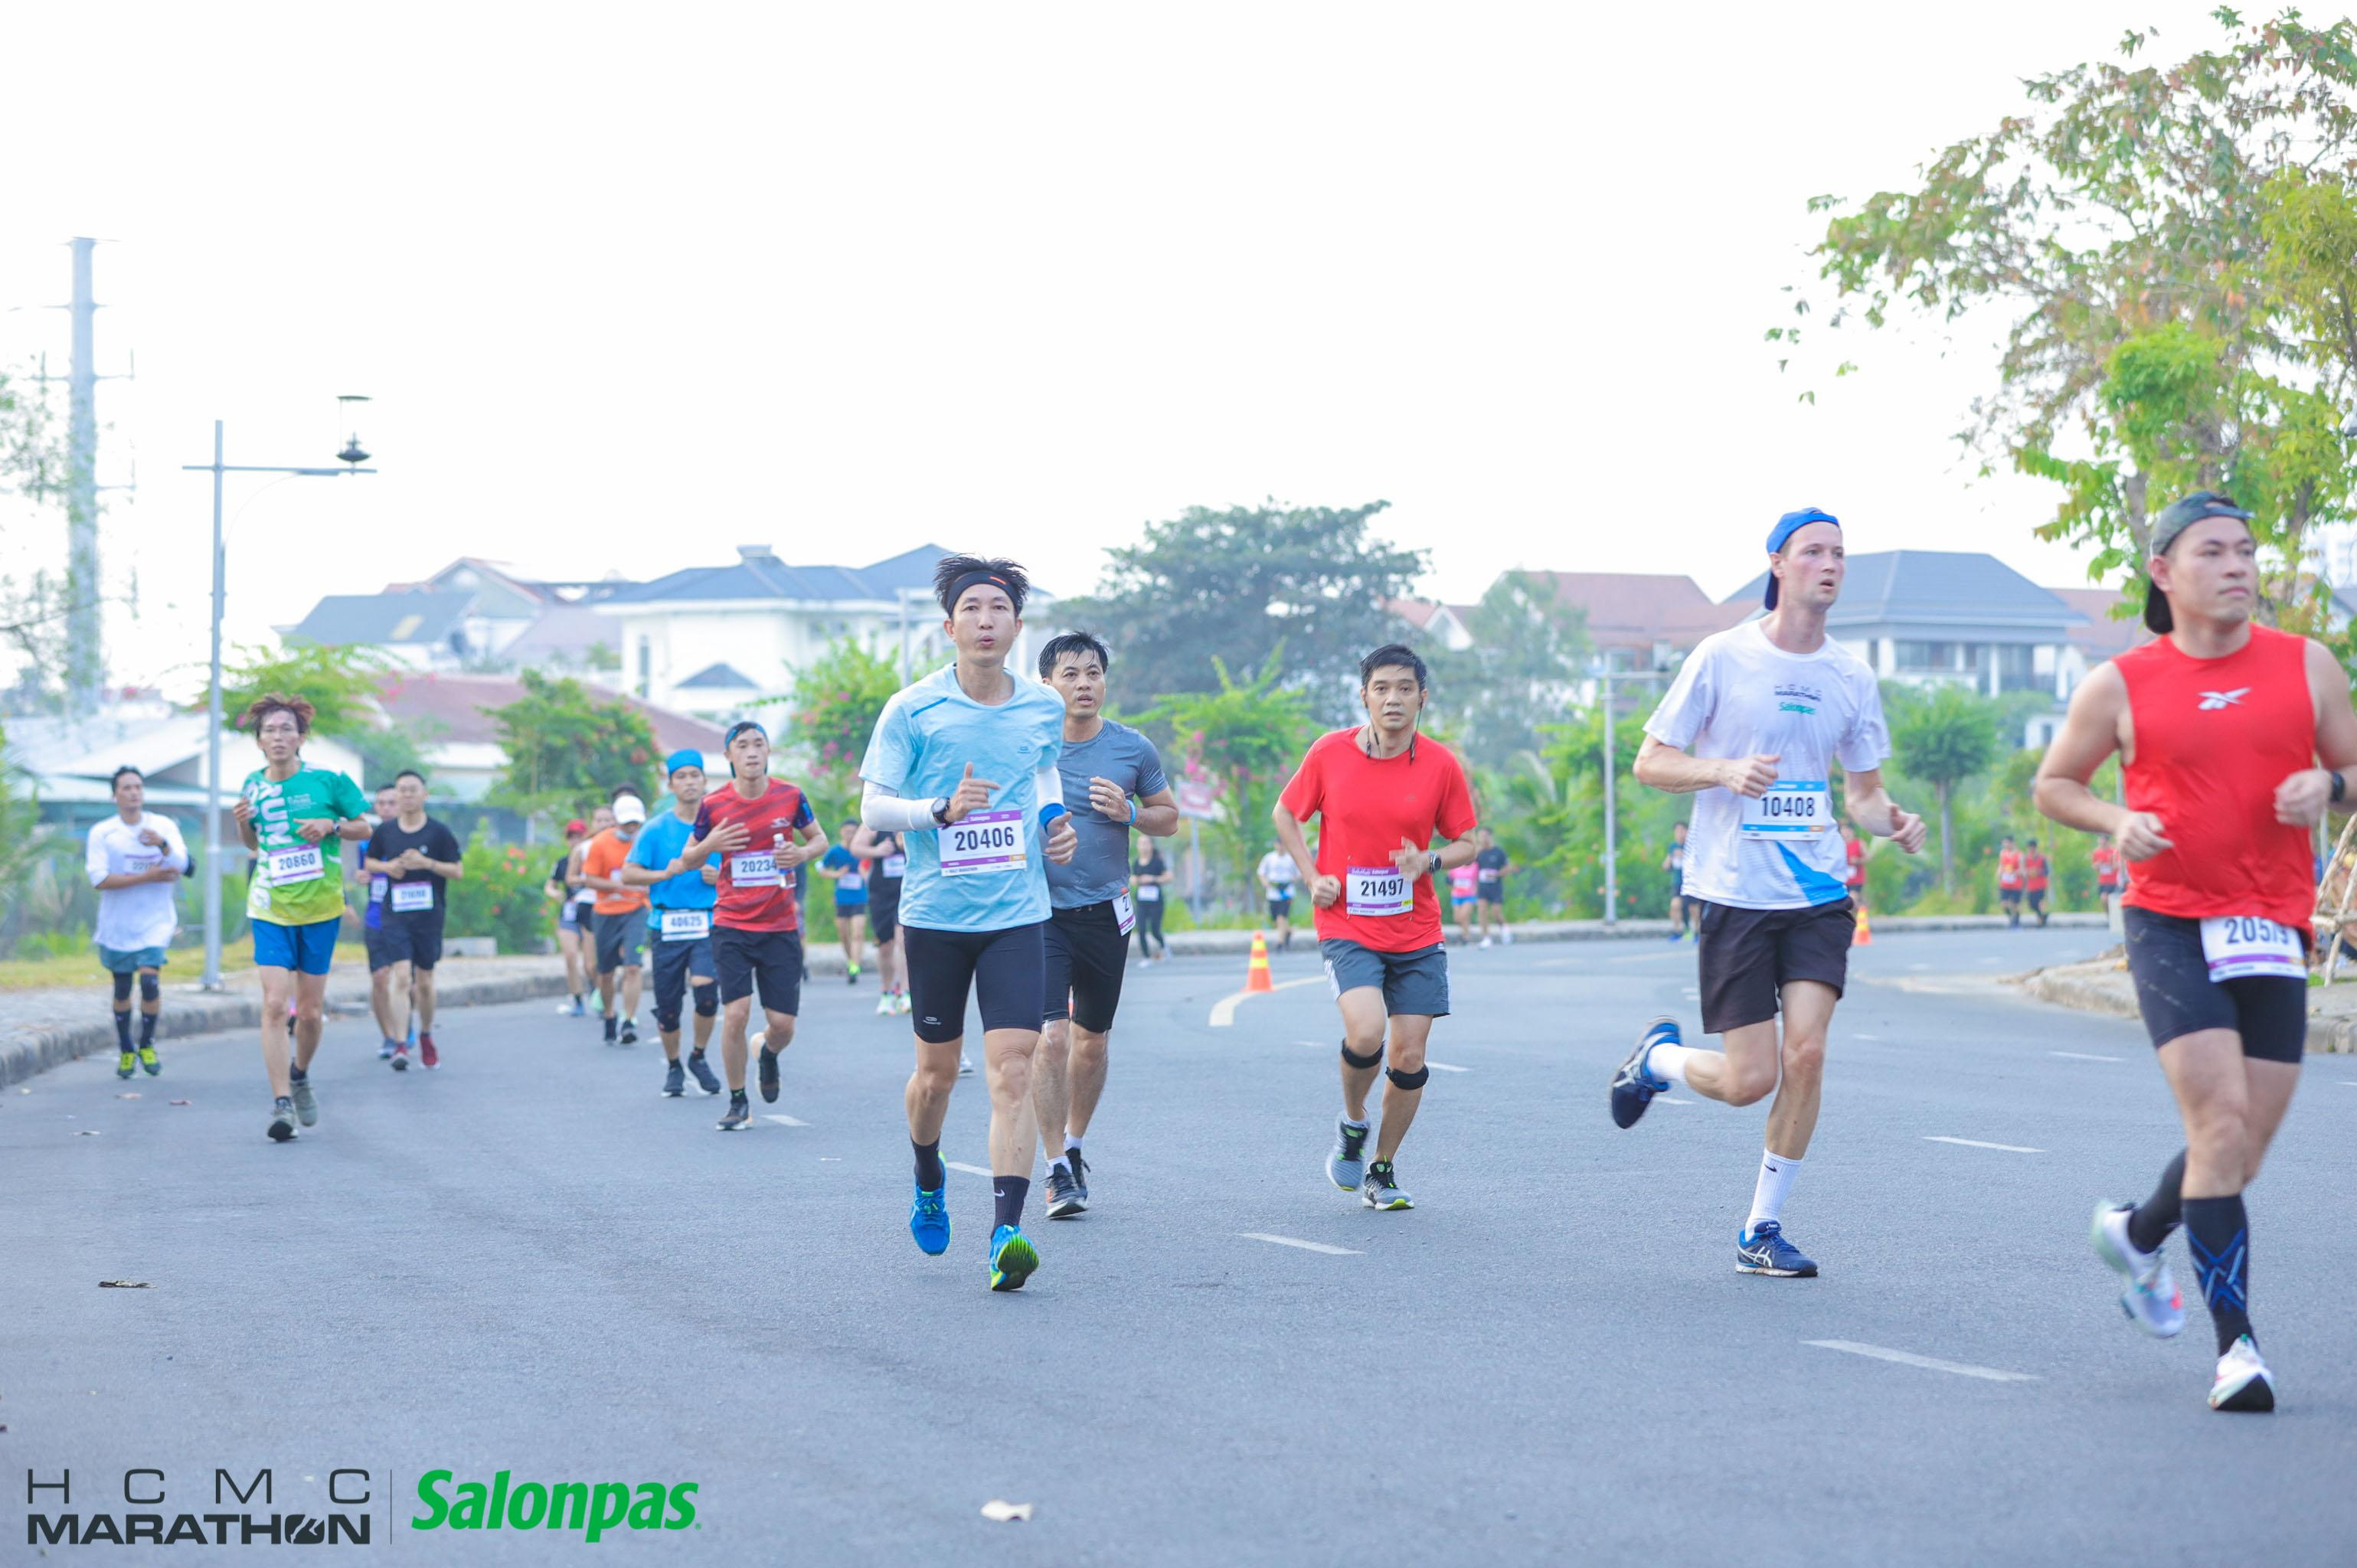bib: (2194, 912, 2312, 978), (940, 814, 1029, 875), (1743, 780, 1829, 836), (1346, 866, 1412, 915), (268, 850, 325, 884), (731, 854, 782, 887), (1109, 894, 1141, 936), (663, 913, 710, 938), (392, 885, 434, 906)
